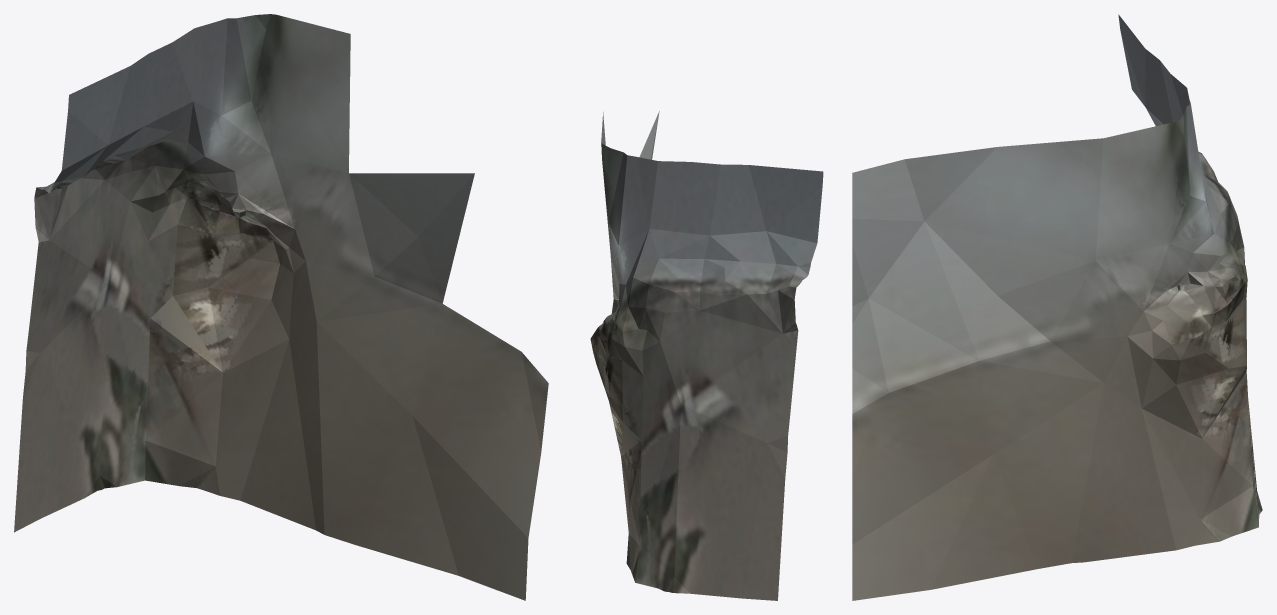
3 renders of one model, left to right at view 1: azimuth 30°, elevation 25°; view 2: azimuth 150°, elevation 25°; view 3: azimuth 270°, elevation 25°, orthographic. The views are drawn at different scales.
Bounding box in the file's own units: 0.6416 × 0.8374 × 0.7006.
3 materials, 3 textured.
